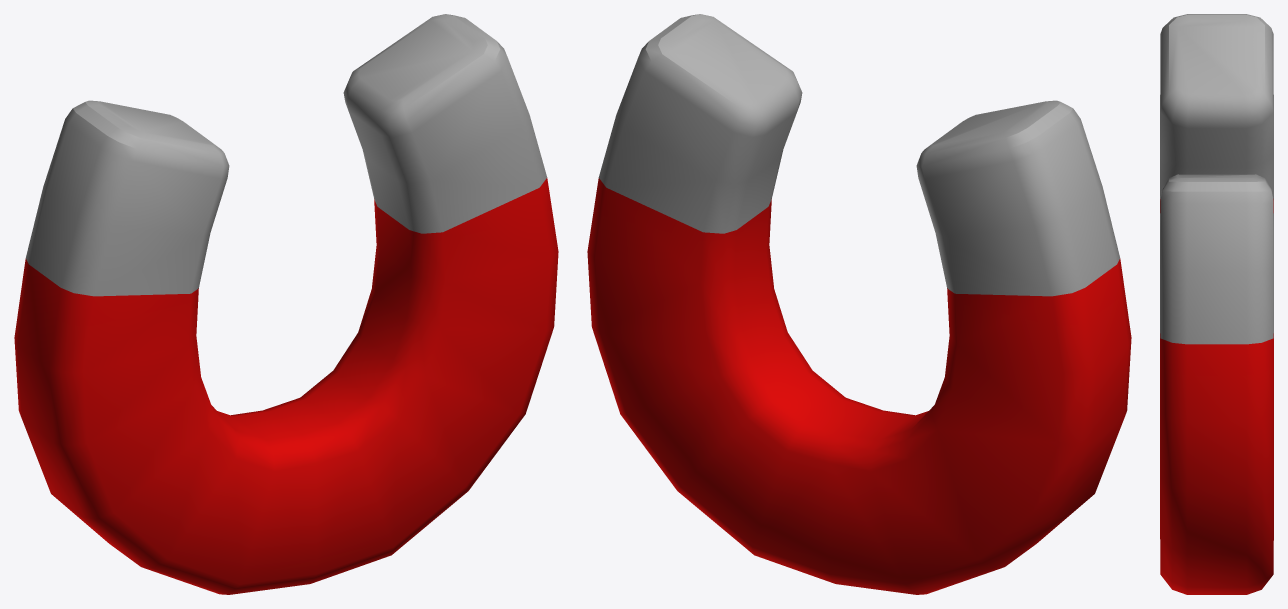
File: Magnet_V1_0.fbx
3 views of the same model, side by side, from view 1: azimuth 30°, elevation 25°; view 2: azimuth 150°, elevation 25°; view 3: azimuth 270°, elevation 25° (orthographic). The views are drawn at different scales.
Visible parts, largest first — view 1: Magnet_V1_0; view 2: Magnet_V1_0; view 3: Magnet_V1_0.
Part boxes in pixels (<box>): Magnet_V1_0: <box>14,14,558,594</box>; Magnet_V1_0: <box>587,14,1131,594</box>; Magnet_V1_0: <box>1160,14,1273,594</box>.
Size of the model in its own units: 0.4506 by 0.4251 by 0.0939.
